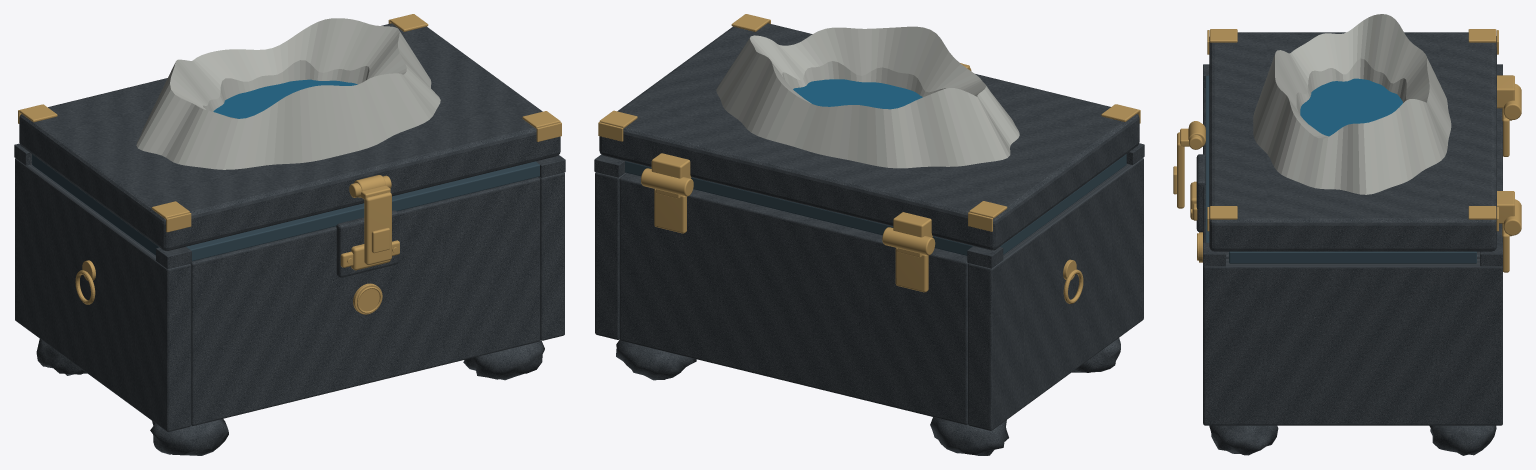
The model's file is north-korea.glb.
3 renders of one model, left to right at view 1: azimuth 30°, elevation 25°; view 2: azimuth 150°, elevation 25°; view 3: azimuth 270°, elevation 25°, orthographic. The views are drawn at different scales.
Parts seen in each view (by area): view 1: Volcanic shell / front rear, Lid / polished slab, Terrain / Paektu caldera, Volcanic shell / sides, Mineral seam / long, Volcanic shell / sides.001, Granite foot, Granite foot.002, Terrain / Lake Chon, Volcanic stone / clasp seat, Latch / lifting hasp, Mineral seam / side (+3 smaller); view 2: Volcanic shell / front rear.001, Lid / polished slab, Terrain / Paektu caldera, Volcanic shell / sides, Volcanic shell / sides.001, Mineral seam / long.001, Terrain / Lake Chon, Granite foot.001, Granite foot.003, Mineral seam / side, Hinge / fixed mount, Hinge / fixed mount.001 (+6 smaller); view 3: Volcanic shell / sides.001, Lid / polished slab, Terrain / Paektu caldera, Terrain / Lake Chon, Mineral seam / side.001, Granite foot.002, Granite foot.003, Mineral seam / long, Volcanic stone / clasp seat, Volcanic shell / front rear.001, Latch / lifting hasp, Hinge / moving leaf (+9 smaller).
Part boxes in pixels (bbox=[...]): Volcanic shell / front rear: bbox=[191, 177, 540, 425]; Lid / polished slab: bbox=[19, 23, 560, 250]; Terrain / Paektu caldera: bbox=[136, 18, 440, 169]; Volcanic shell / sides: bbox=[15, 158, 191, 431]; Mineral seam / long: bbox=[186, 161, 539, 261]; Volcanic shell / sides.001: bbox=[538, 172, 564, 340]; Granite foot: bbox=[150, 419, 228, 455]; Granite foot.002: bbox=[463, 340, 544, 380]; Terrain / Lake Chon: bbox=[213, 79, 357, 118]; Volcanic stone / clasp seat: bbox=[336, 210, 398, 277]; Latch / lifting hasp: bbox=[364, 192, 391, 265]; Mineral seam / side: bbox=[32, 154, 159, 255]; Volcanic shell / front rear.001: bbox=[619, 173, 968, 424]; Lid / polished slab: bbox=[599, 23, 1139, 250]; Terrain / Paektu caldera: bbox=[716, 26, 1019, 168]; Volcanic shell / sides: bbox=[968, 158, 1143, 430]; Volcanic shell / sides.001: bbox=[595, 172, 626, 339]; Mineral seam / long.001: bbox=[625, 161, 972, 255]; Terrain / Lake Chon: bbox=[793, 79, 922, 109]; Granite foot.001: bbox=[930, 417, 1008, 455]; Granite foot.003: bbox=[616, 339, 696, 380]; Mineral seam / side: bbox=[1000, 154, 1126, 254]; Hinge / fixed mount: bbox=[895, 248, 928, 292]; Hinge / fixed mount.001: bbox=[654, 189, 686, 233]; Volcanic shell / sides.001: bbox=[1203, 258, 1502, 425]; Lid / polished slab: bbox=[1209, 32, 1496, 251]; Terrain / Paektu caldera: bbox=[1253, 14, 1451, 194]; Terrain / Lake Chon: bbox=[1300, 78, 1402, 136]; Mineral seam / side.001: bbox=[1229, 251, 1476, 263]; Granite foot.002: bbox=[1209, 425, 1278, 455]; Granite foot.003: bbox=[1429, 425, 1496, 455]; Mineral seam / long: bbox=[1205, 75, 1209, 242]; Volcanic stone / clasp seat: bbox=[1196, 154, 1205, 232]; Volcanic shell / front rear.001: bbox=[1497, 108, 1502, 242]; Latch / lifting hasp: bbox=[1177, 132, 1184, 208]; Hinge / moving leaf: bbox=[1497, 75, 1514, 108].
Bounding box in the file's own units: 3.79 × 2.88 × 2.88.
6 materials, 2 textured.
